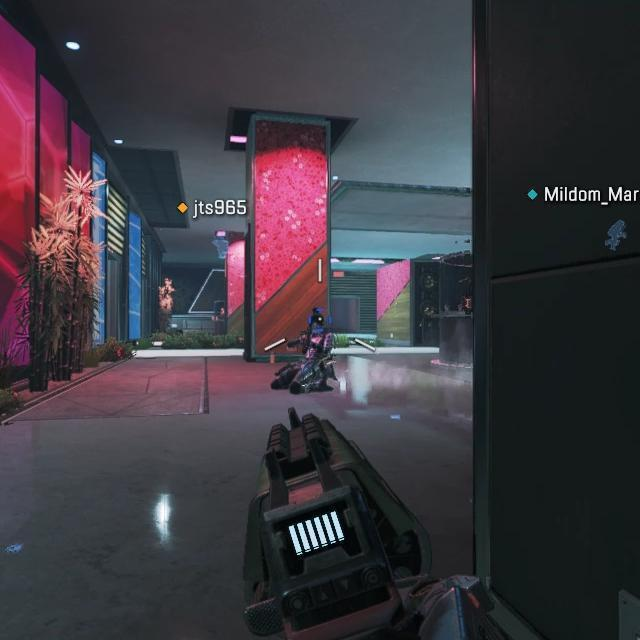avatar: (267, 304, 338, 397)
